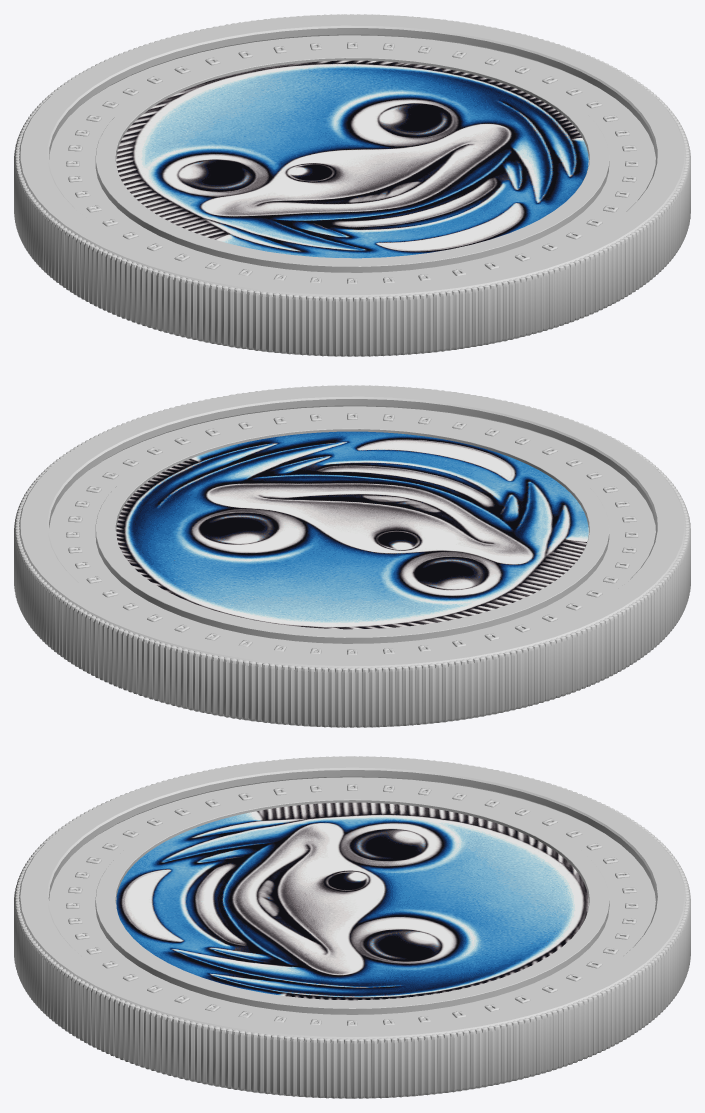
File: coin.gltf
The picture shows the model from 3 angles, top to bottom: view 1: azimuth 30°, elevation 25°; view 2: azimuth 150°, elevation 25°; view 3: azimuth 270°, elevation 25°; orthographic projection.
Visible parts, largest first — view 1: Disc, Tube 1 (×2), Cylinder; view 2: Disc, Tube 1 (×2), Cylinder; view 3: Disc, Tube 1 (×2), Cylinder.
Part boxes in pixels (bbox=[...]): Disc: bbox=[116, 60, 588, 258]; Tube 1 (×2): bbox=[19, 14, 685, 297]; Cylinder: bbox=[49, 35, 655, 283]; Disc: bbox=[116, 431, 588, 629]; Tube 1 (×2): bbox=[19, 385, 685, 668]; Cylinder: bbox=[49, 406, 655, 654]; Disc: bbox=[116, 802, 588, 1000]; Tube 1 (×2): bbox=[18, 756, 686, 1039]; Cylinder: bbox=[49, 777, 655, 1025].
Size of the model in its own units: 2.03 by 0.203 by 2.03.
2 materials, 1 textured.
